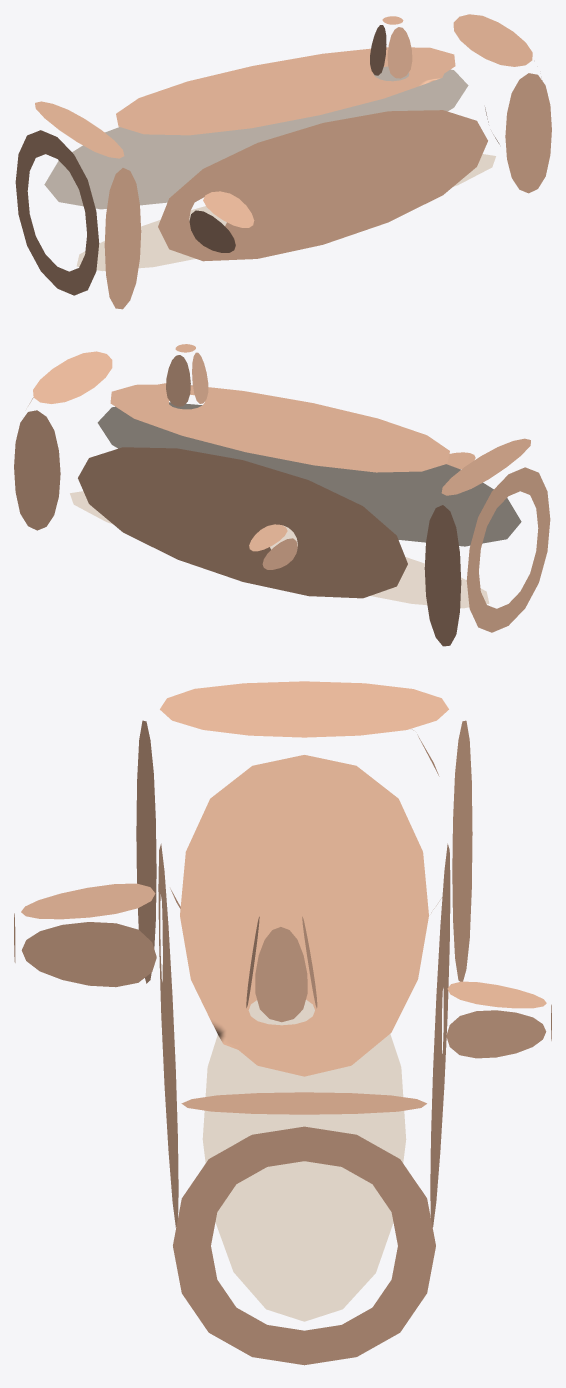
The model's file is log_large.glb.
3 renders of one model, top to bottom at view 1: azimuth 30°, elevation 25°; view 2: azimuth 150°, elevation 25°; view 3: azimuth 270°, elevation 25°, orthographic. The views are drawn at different scales.
Parts seen in each view (by area): view 1: log_large; view 2: log_large; view 3: log_large.
Boxes of the visible parts, bbox=[...] form: log_large: bbox=[15, 14, 551, 309]; log_large: bbox=[14, 344, 550, 646]; log_large: bbox=[14, 681, 551, 1365].
Bounding box in the file's own units: 1 × 0.4157 × 0.5492.
